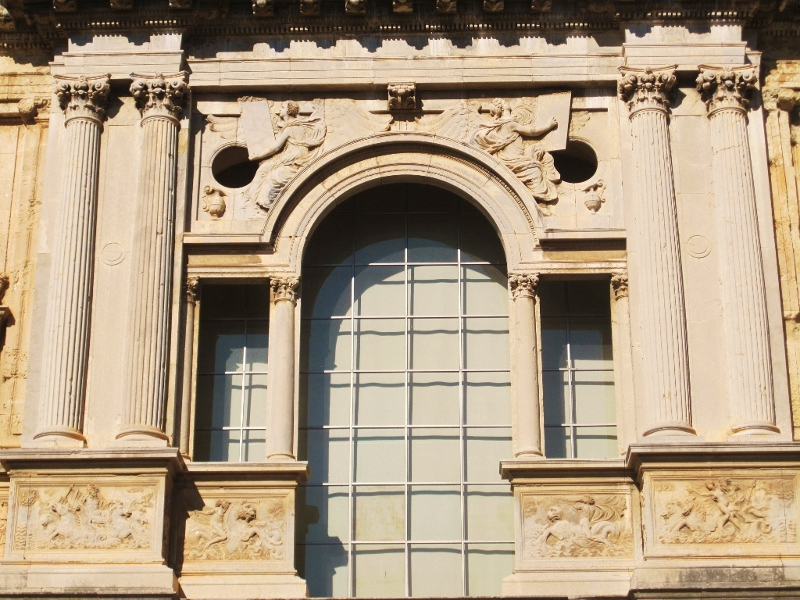serliana: (182, 130, 626, 477)
